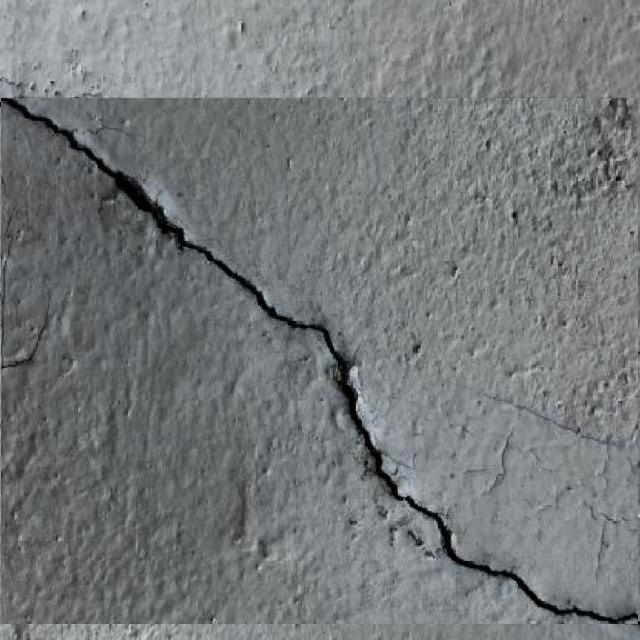Crack: (0, 96, 639, 626)
